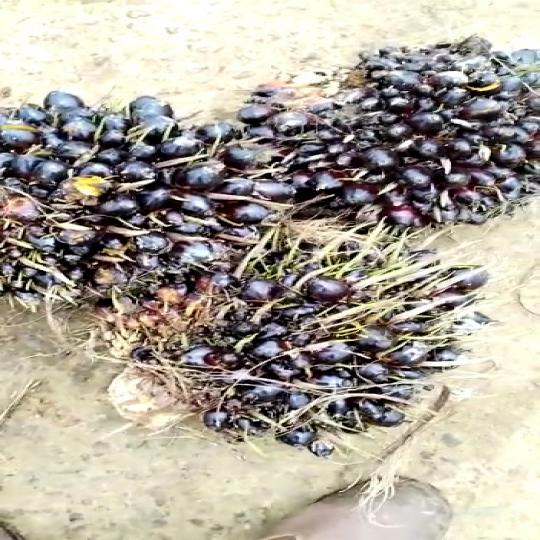mentah: (138, 230, 501, 448), (1, 77, 287, 305), (246, 19, 540, 240)
